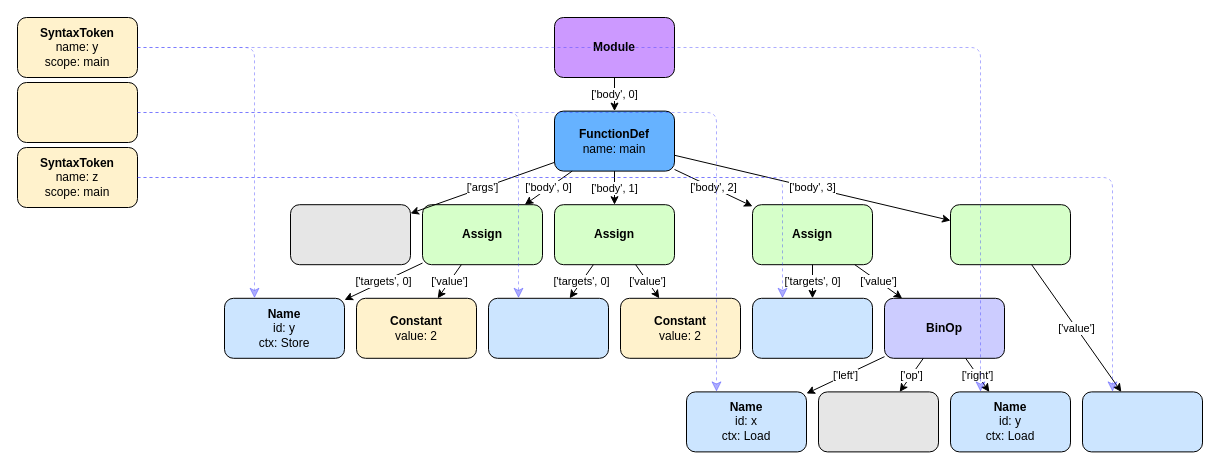
Image size: 1220x470. Some labels were removed from this diagram. The shapes that lost their labels are listed below. From the top down, each one's centre as x and y in pixels, then its label:
At pixel 77 112: "SyntaxToken name: x scope: main".
At pixel 350 234: "arguments".
At pixel 1010 234: "Return".
At pixel 548 327: "Name id: x ctx: Store".
At pixel 812 327: "Name id: z ctx: Store".
At pixel 878 421: "Add".
At pixel 1142 421: "Name id: z ctx: Load".
